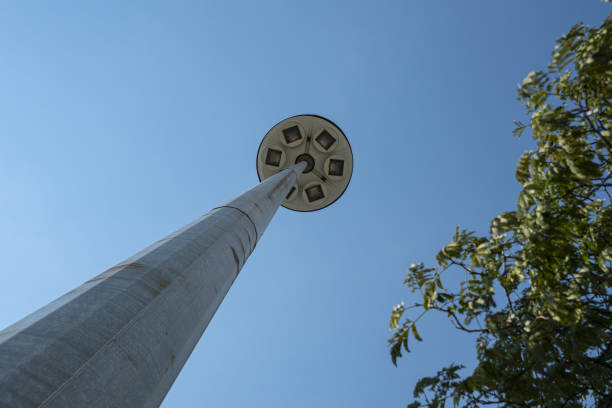light_pole: (0, 160, 306, 408)
